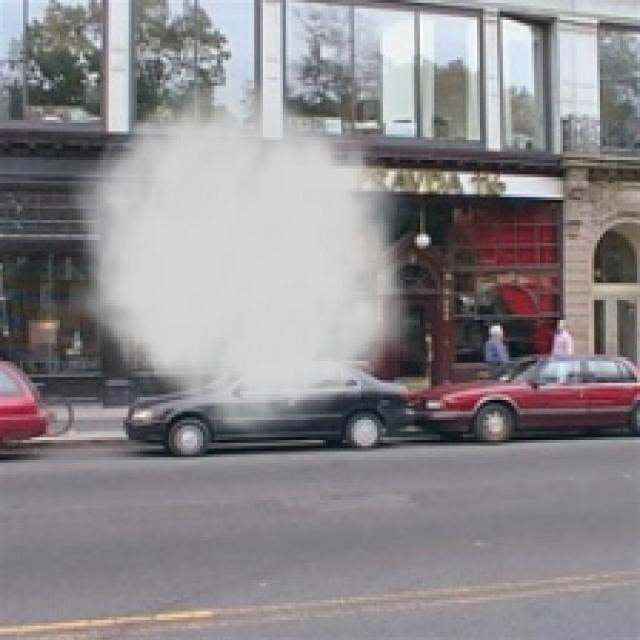Smoke: (68, 59, 426, 452)
